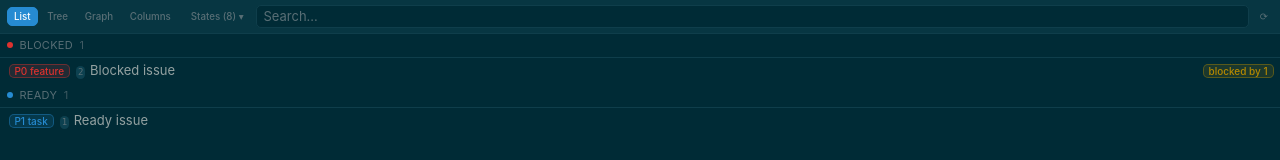
Test case: BeadsPanel filter › text search filters by title (case-insensitive)
Type "READY" into the field with placeholder "Search…" at (753, 16), box [256,5,1249,28]
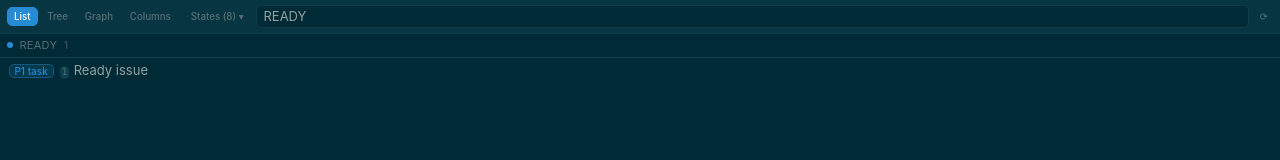
Check: the text "Ready issue" is shown, box [74,61,148,80]
Check: the text "Blocked issue" is gone
